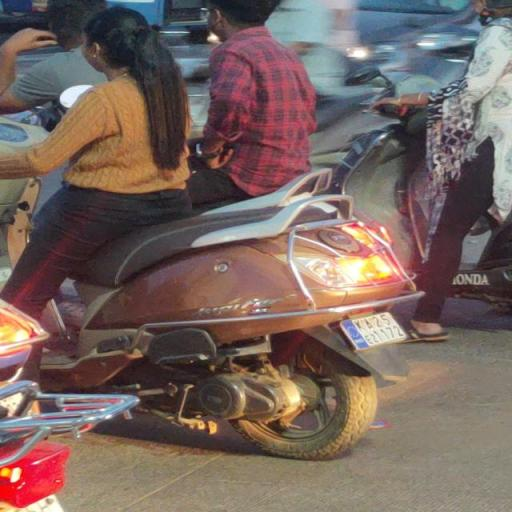bike: (5, 3, 427, 457)
numberplate: (337, 300, 409, 352)
withouthelmet: (83, 9, 145, 66)
